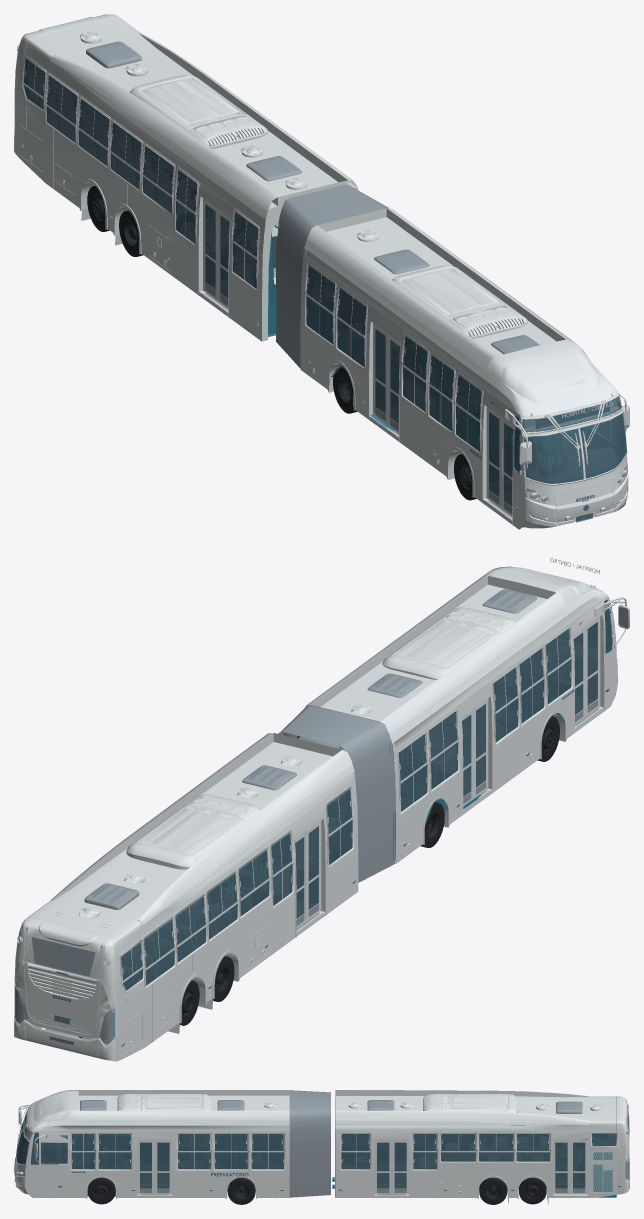
File: VEH_Bus_BRT_Interactive_20261009.glb
3 renders of one model, top to bottom at view 1: azimuth 30°, elevation 25°; view 2: azimuth 150°, elevation 25°; view 3: azimuth 270°, elevation 25°, orthographic. The views are drawn at different scales.
Parts seen in each view (by area): view 1: BRT_Front_Part_21, BRT_Rear_Part_21, BRT_Front_Part_30, BRT_Front_Part_15, BRT_Rear_Part_15, BRT_Rear_Part_30, BRT_Bellows_Part_13, BRT_Rear_Part_22, BRT_Front_Part_22, Wheel_02_R, Wheel_03_R; view 2: BRT_Rear_Part_21, BRT_Front_Part_21, BRT_Rear_Part_15, BRT_Front_Part_15, BRT_Front_Part_30, BRT_Rear_Part_30, BRT_Bellows_Part_13, BRT_Rear_Part_22, BRT_Front_Part_22, BRT_Rear_Part_12, BRT_Rear_Part_04, Wheel_03_R (+1 smaller); view 3: BRT_Rear_Part_21, BRT_Front_Part_21, BRT_Rear_Part_15, BRT_Front_Part_15, BRT_Front_Part_30, BRT_Rear_Part_30, BRT_Bellows_Part_13, Door_02_A, Door_01_A, Door_01_B, Door_03_A, Door_02_B (+8 smaller).
Part boxes in pixels (box(x1,y1,x2,y2)): BRT_Front_Part_21: box(300, 208, 628, 529); BRT_Rear_Part_21: box(14, 14, 357, 341); BRT_Front_Part_30: box(306, 265, 626, 506); BRT_Front_Part_15: box(300, 208, 629, 529); BRT_Rear_Part_15: box(17, 15, 358, 341); BRT_Rear_Part_30: box(23, 58, 258, 298); BRT_Bellows_Part_13: box(276, 184, 389, 368); BRT_Rear_Part_22: box(86, 41, 301, 305); BRT_Front_Part_22: box(374, 249, 539, 513); Wheel_02_R: box(333, 367, 357, 413); Wheel_03_R: box(119, 210, 143, 256); BRT_Rear_Part_21: box(14, 733, 358, 1061); BRT_Front_Part_21: box(305, 566, 617, 863); BRT_Rear_Part_15: box(17, 733, 358, 1059); BRT_Front_Part_15: box(312, 576, 629, 857); BRT_Front_Part_30: box(399, 600, 611, 811); BRT_Rear_Part_30: box(121, 789, 352, 990); BRT_Bellows_Part_13: box(280, 705, 395, 882); BRT_Rear_Part_22: box(84, 765, 318, 925); BRT_Front_Part_22: box(367, 589, 597, 803); BRT_Rear_Part_12: box(31, 937, 95, 976); BRT_Rear_Part_04: box(14, 986, 115, 1044); Wheel_03_R: box(213, 956, 234, 1001); BRT_Rear_Part_21: box(335, 1090, 629, 1198); BRT_Front_Part_21: box(14, 1090, 289, 1198); BRT_Rear_Part_15: box(335, 1090, 629, 1204); BRT_Front_Part_15: box(14, 1090, 289, 1197); BRT_Front_Part_30: box(16, 1112, 283, 1169); BRT_Rear_Part_30: box(341, 1133, 616, 1169); BRT_Bellows_Part_13: box(289, 1090, 330, 1197); Door_02_A: box(369, 1139, 390, 1193); Door_01_A: box(136, 1139, 154, 1193); Door_01_B: box(154, 1139, 172, 1193); Door_03_A: box(553, 1139, 570, 1193); Door_02_B: box(389, 1139, 406, 1193).
Bounding box in the file's own units: 3.16 × 3.78 × 23.21.
